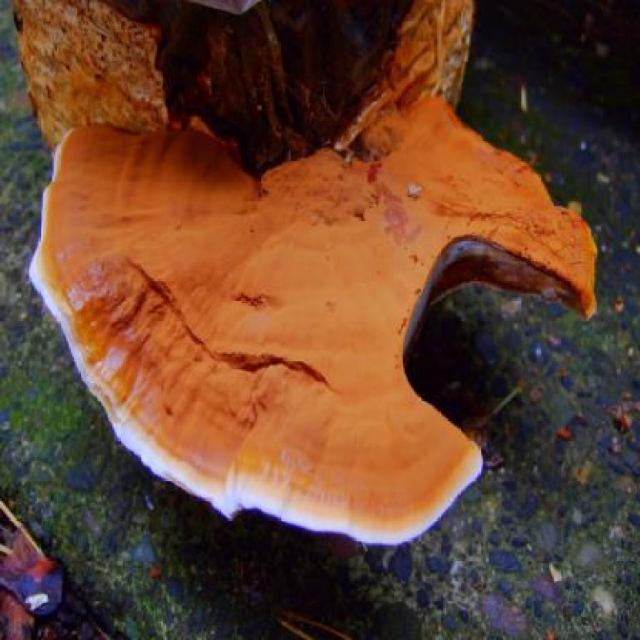Mushroom: (0, 89, 608, 566)
